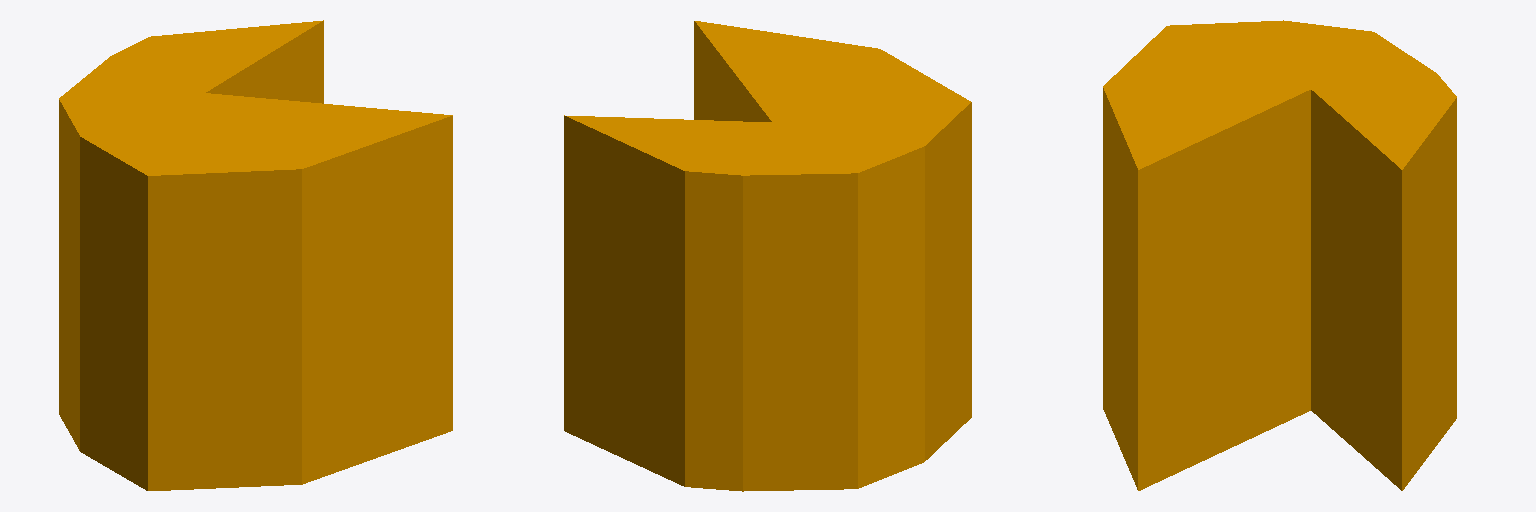
The robot description file, URDF, robot "object":
<?xml version="1.0"?>
<robot name="object">
  <link name="object">
    <visual>
      <origin xyz="0 0 0"/>
      <geometry>
        <mesh filename="meshes/polygon/poly_107_s.obj" scale=".03 .03 .03"/>
      </geometry>
    </visual>
    <collision>
  <origin xyz="0 0 0"/>
  <geometry>
    <mesh filename="meshes/polygon/poly_107_s_0decompose.obj" scale=".03 .03 .03"/>
<!--          <mesh filename="meshes/custom/obj0_ball.obj" scale=".05 .05 .05"/>-->
  </geometry>
</collision><collision>
  <origin xyz="0 0 0"/>
  <geometry>
    <mesh filename="meshes/polygon/poly_107_s_1decompose.obj" scale=".03 .03 .03"/>
<!--          <mesh filename="meshes/custom/obj0_ball.obj" scale=".05 .05 .05"/>-->
  </geometry>
</collision>

<!--    <collision>-->
<!--      <origin xyz="0 0 0"/>-->
<!--      <geometry>-->
<!--        <mesh filename="meshes/polygon/poly_107_s.obj" scale=".03 .03 .03"/>-->
<!--&lt;!&ndash;          <mesh filename="meshes/custom/obj0_ball.obj" scale=".05 .05 .05"/>&ndash;&gt;-->
<!--      </geometry>-->
<!--    </collision>-->
    <inertial>
      <density value="1000.0"/>
    </inertial>
  </link>
</robot>

--- Render facts (derived) ---
The picture shows the robot from 3 angles, left to right: view 1: azimuth 30°, elevation 25°; view 2: azimuth 150°, elevation 25°; view 3: azimuth 270°, elevation 25°; orthographic projection.
Robot: object — 1 links, 0 joints (none); root link object; default pose: all joints at 0.
Links seen in each view (by area): view 1: object; view 2: object; view 3: object.
Boxes of the visible links, <box> form: object: <box>59,20,452,490</box>; object: <box>564,21,971,491</box>; object: <box>1103,20,1456,490</box>.
Size in the robot's own frame: 0.06 by 0.06 by 0.06 metres.
Meshes: 1 distinct files referenced, 1 mesh visuals loaded (1 OBJ).
